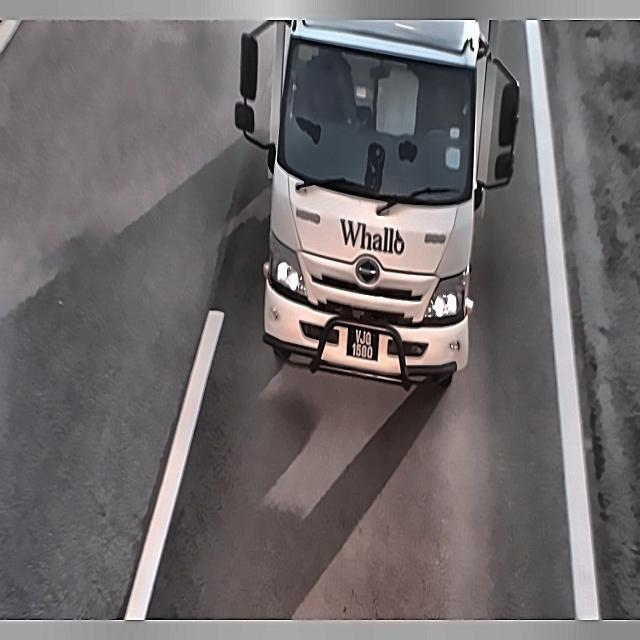car: (345, 319, 382, 369)
